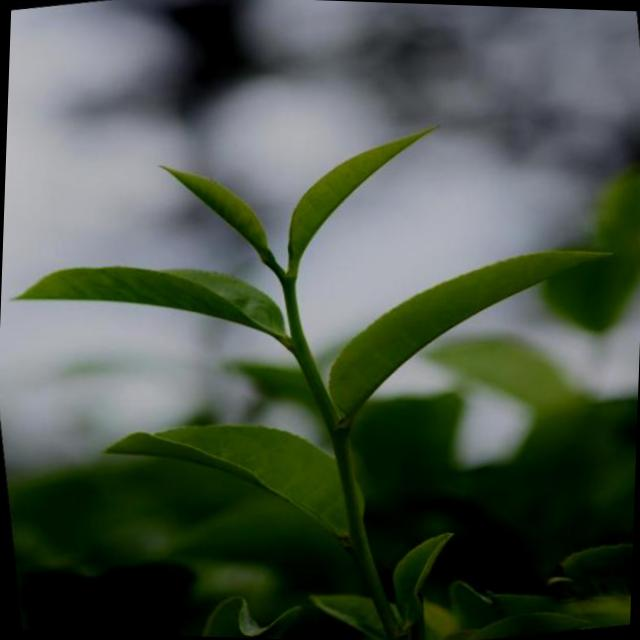Stem: (283, 278, 294, 294)
